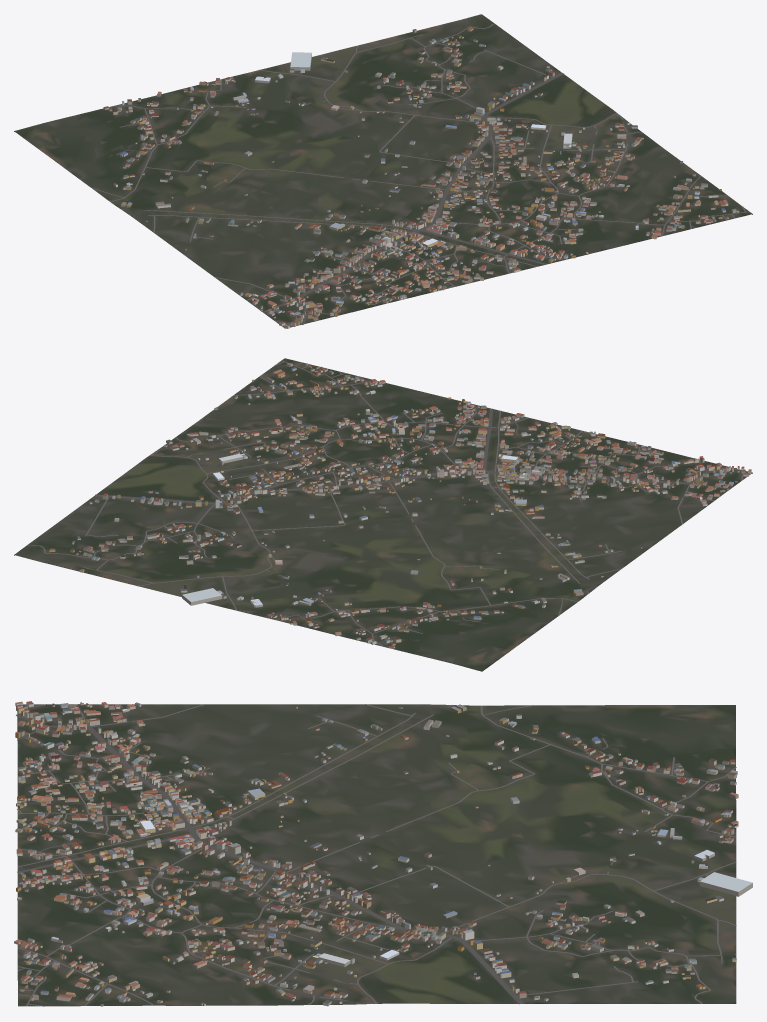
3 views of the same model, one above another, from view 1: azimuth 30°, elevation 25°; view 2: azimuth 150°, elevation 25°; view 3: azimuth 270°, elevation 25° (orthographic). The views are drawn at different scales.
Parts seen in each view (by area): view 1: ground, buildings, roads; view 2: ground, buildings, roads; view 3: ground, buildings, roads.
Boxes of the visible parts, x1,y1,x2,y2 form: ground: [14, 14, 752, 328]; buildings: [103, 27, 739, 328]; roads: [90, 23, 749, 327]; ground: [14, 358, 752, 671]; buildings: [49, 363, 751, 648]; roads: [27, 360, 750, 646]; ground: [17, 704, 736, 1006]; buildings: [14, 701, 752, 1006]; roads: [16, 704, 736, 1006].
Size of the model in its own units: 1406 by 25.51 by 1442.
